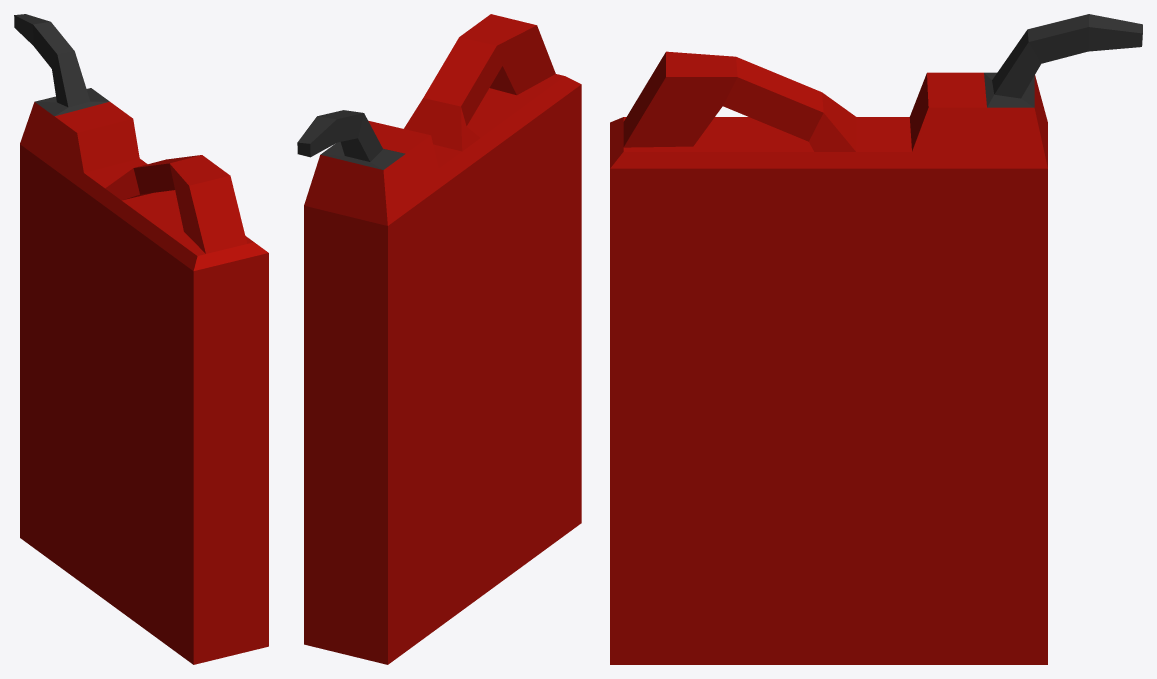
File: Combustivel.fbx
3 views of the same model, side by side, from view 1: azimuth 30°, elevation 25°; view 2: azimuth 150°, elevation 25°; view 3: azimuth 270°, elevation 25° (orthographic). The views are drawn at different scales.
Visible parts, largest first — view 1: Cube; view 2: Cube; view 3: Cube.
Part boxes in pixels (bbox=[...]): Cube: bbox=[14, 14, 268, 664]; Cube: bbox=[297, 14, 581, 664]; Cube: bbox=[610, 14, 1142, 664].
Bounding box in the file's own units: 10 × 62.76 × 48.67.
